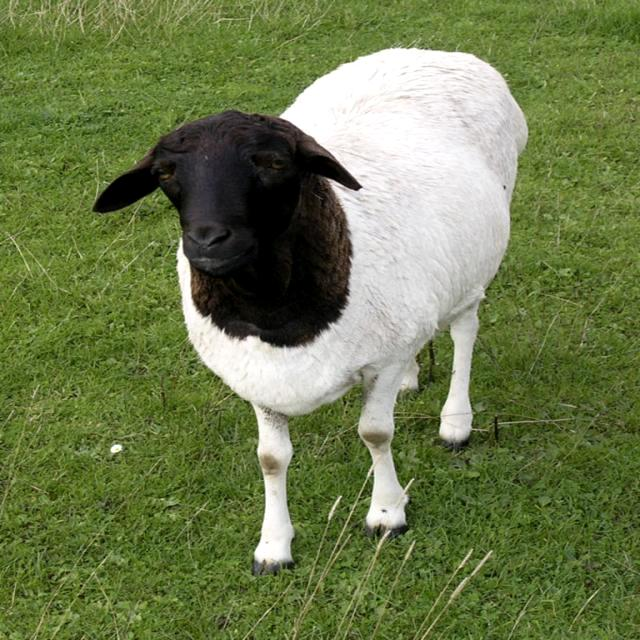sheep: (96, 63, 509, 545)
